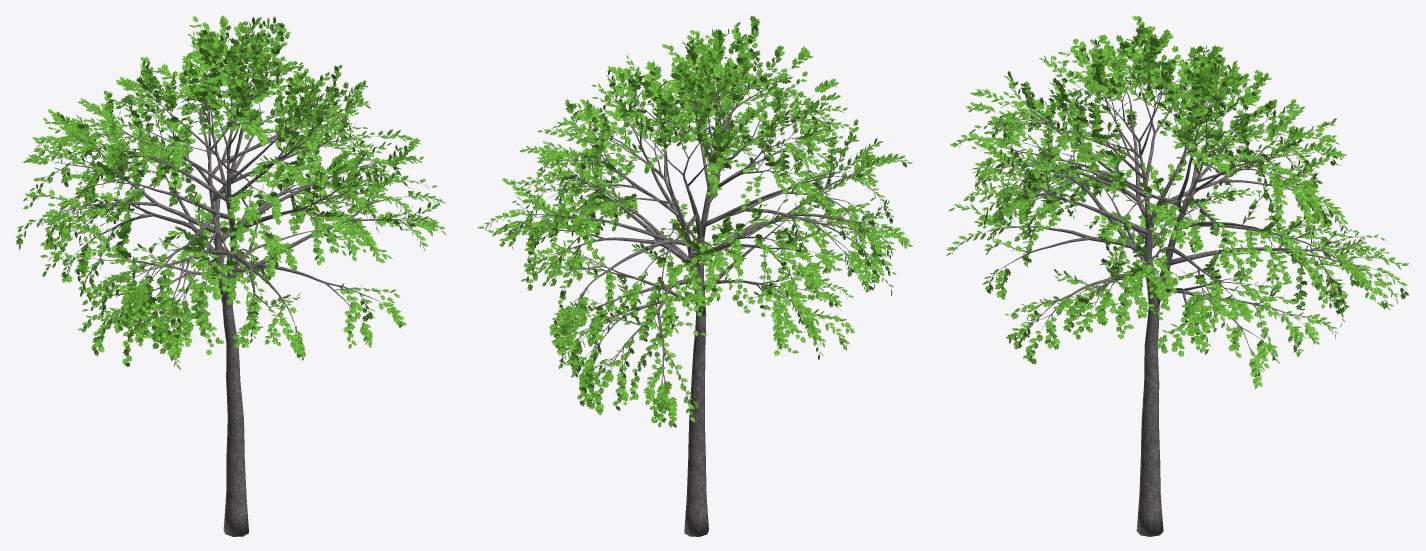
Rendered from tree.obj.
3 renders of one model, left to right at view 1: azimuth 30°, elevation 25°; view 2: azimuth 150°, elevation 25°; view 3: azimuth 270°, elevation 25°, orthographic. The views are drawn at different scales.
Visible parts, largest first — view 1: leaves_Material-Leaves, GenTree-Main_Trunk_Material.Trunk_and_Primary_Limbs, GenTree_-_Twigs_Leaf_Bearing_Material.Twigs; view 2: leaves_Material-Leaves, GenTree-Main_Trunk_Material.Trunk_and_Primary_Limbs, GenTree_-_Twigs_Leaf_Bearing_Material.Twigs; view 3: leaves_Material-Leaves, GenTree-Main_Trunk_Material.Trunk_and_Primary_Limbs, GenTree_-_Twigs_Leaf_Bearing_Material.Twigs.
Part boxes in pixels (x1,y1,x2,y2): leaves_Material-Leaves: (16, 15, 445, 369); GenTree-Main_Trunk_Material.Trunk_and_Primary_Limbs: (51, 44, 411, 536); GenTree_-_Twigs_Leaf_Bearing_Material.Twigs: (25, 27, 428, 347); leaves_Material-Leaves: (477, 15, 913, 427); GenTree-Main_Trunk_Material.Trunk_and_Primary_Limbs: (522, 69, 875, 536); GenTree_-_Twigs_Leaf_Bearing_Material.Twigs: (497, 38, 902, 415); leaves_Material-Leaves: (946, 15, 1408, 388); GenTree-Main_Trunk_Material.Trunk_and_Primary_Limbs: (997, 66, 1372, 536); GenTree_-_Twigs_Leaf_Bearing_Material.Twigs: (958, 40, 1400, 362).
Size of the model in its own units: 13.2 by 16.84 by 14.56.
